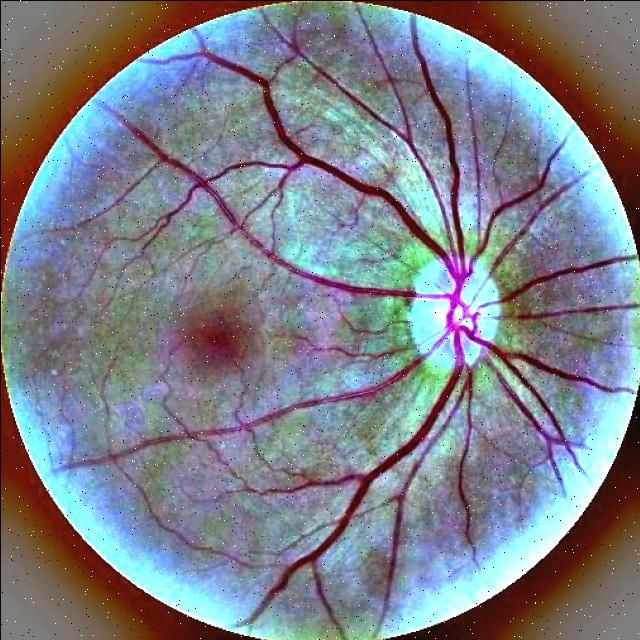Macula: (152, 274, 282, 392)
Nerves: (256, 277, 469, 618), (250, 72, 451, 273)
Optic Disk: (383, 228, 499, 370)
